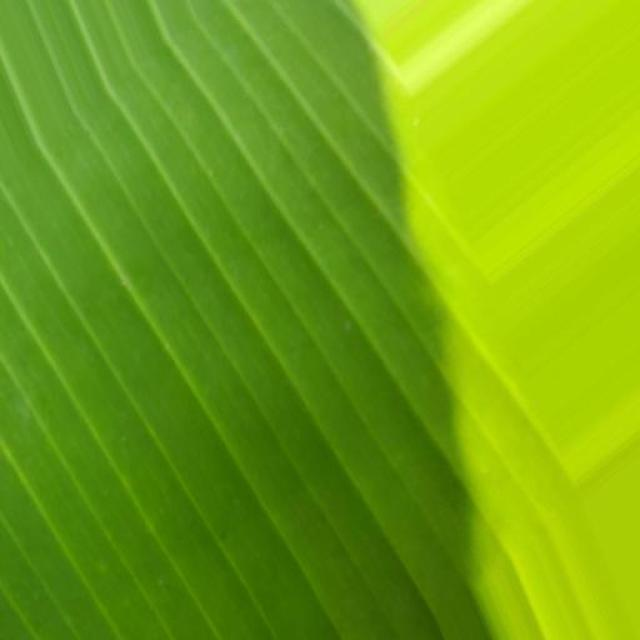Black_leaf_spot: (1, 0, 564, 640)
